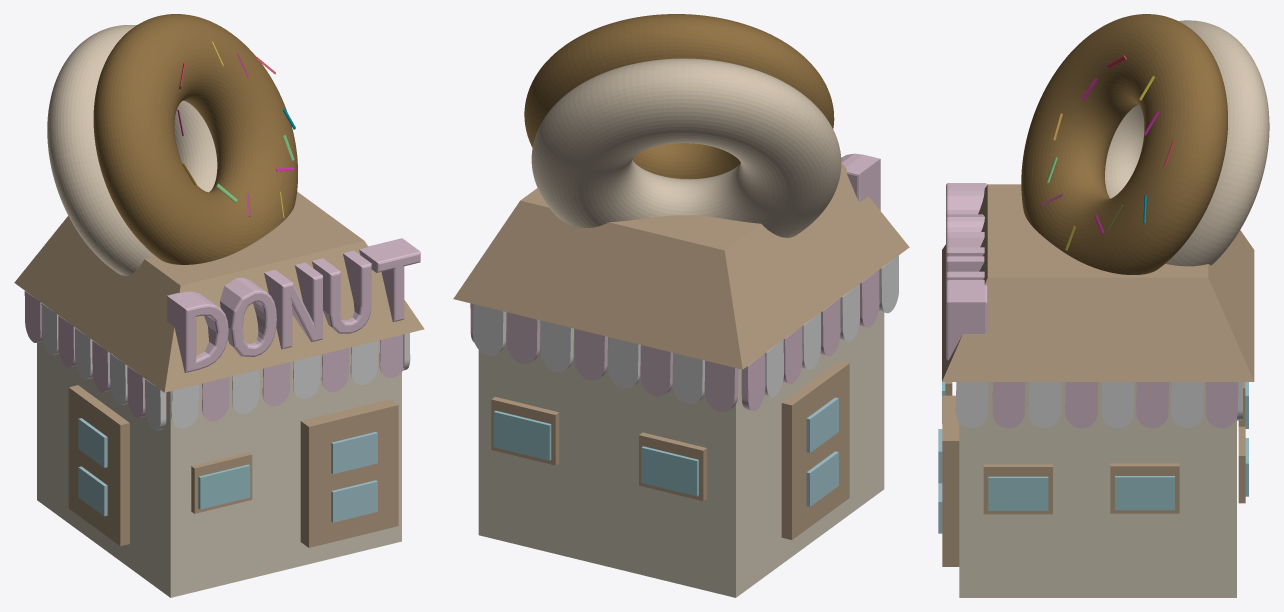
File: donut-shop.glb
3 views of the same model, side by side, from view 1: azimuth 30°, elevation 25°; view 2: azimuth 150°, elevation 25°; view 3: azimuth 270°, elevation 25° (orthographic). The views are drawn at different scales.
Visible parts, largest first — view 1: Mesh_Mesh_head_geo.001_lambert2SG.001; view 2: Mesh_Mesh_head_geo.001_lambert2SG.001; view 3: Mesh_Mesh_head_geo.001_lambert2SG.001.
Part boxes in pixels (<box>): Mesh_Mesh_head_geo.001_lambert2SG.001: <box>14,14,424,597</box>; Mesh_Mesh_head_geo.001_lambert2SG.001: <box>453,14,909,597</box>; Mesh_Mesh_head_geo.001_lambert2SG.001: <box>938,14,1269,597</box>.
Bounding box in the file's own units: 96.51 × 158 × 95.39.
